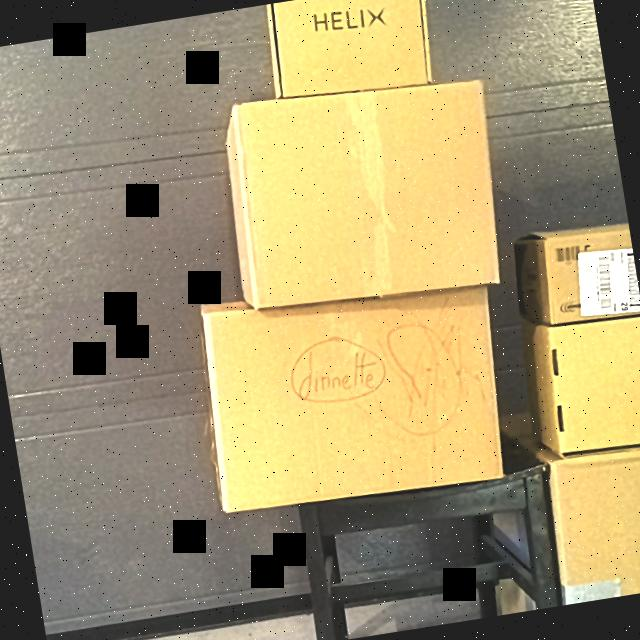box: (200, 280, 514, 521), (223, 75, 509, 312), (266, 0, 435, 104), (547, 441, 640, 604), (542, 309, 640, 459), (538, 224, 640, 323)
